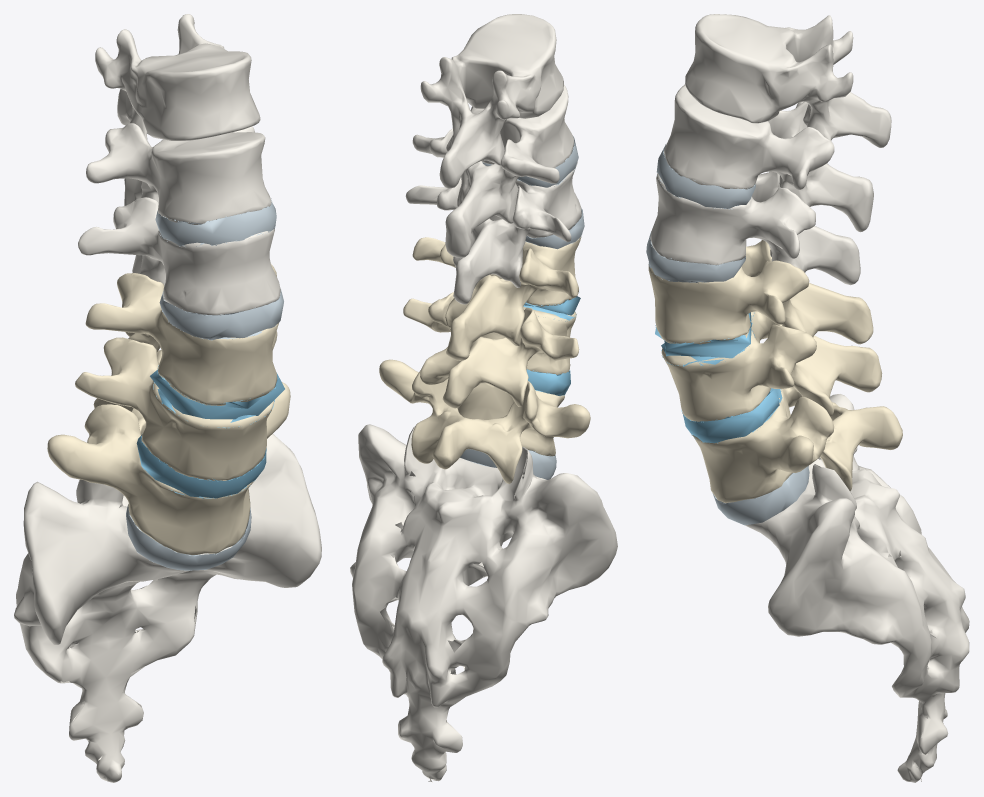
File: spine.glb
The picture shows the model from 3 angles, left to right: view 1: azimuth 30°, elevation 25°; view 2: azimuth 150°, elevation 25°; view 3: azimuth 270°, elevation 25°; orthographic projection. The views are drawn at different scales.
Parts seen in each view (by area): view 1: sacrum, L5, T12, L1, L2, L4, L3, d_L2, d_L1, d_L4, d_L3, d_L5; view 2: sacrum, T12, L5, L1, L4, L3, L2, d_L5, d_L4, d_L1, d_L2, d_L3; view 3: sacrum, T12, L1, L3, L4, L2, L5, d_L5, d_L4, d_L1, d_L2, d_L3.
Part boxes in pixels (box(x1,y1,x2,y2)): sacrum: box(14, 434, 321, 782); L5: box(47, 382, 290, 555); T12: box(95, 14, 260, 140); L1: box(86, 123, 271, 224); L2: box(78, 197, 280, 315); L4: box(75, 331, 277, 480); L3: box(85, 264, 279, 405); d_L2: box(159, 288, 283, 340); d_L1: box(155, 198, 276, 247); d_L4: box(136, 434, 266, 498); d_L3: box(150, 365, 284, 428); d_L5: box(126, 504, 251, 570); sacrum: box(350, 424, 617, 782); T12: box(420, 14, 563, 188); L5: box(379, 359, 590, 483); L1: box(412, 85, 574, 258); L4: box(403, 292, 579, 408); L3: box(412, 236, 581, 360); L2: box(405, 162, 581, 304); d_L5: box(460, 449, 556, 479); d_L4: box(526, 369, 570, 396); d_L1: box(482, 136, 578, 187); d_L2: box(525, 208, 584, 249); d_L3: box(523, 292, 580, 321); sacrum: box(745, 394, 969, 782); T12: box(685, 14, 891, 147); L1: box(664, 84, 873, 232); L3: box(648, 240, 873, 344); L4: box(661, 311, 882, 421); L2: box(650, 171, 860, 285); L5: box(692, 386, 902, 503); d_L5: box(712, 465, 809, 525); d_L4: box(681, 388, 782, 443); d_L1: box(656, 143, 755, 209); d_L2: box(646, 232, 745, 283); d_L3: box(655, 312, 755, 366).
Size of the model in its own units: 0.1178 by 0.3188 by 0.1234.
